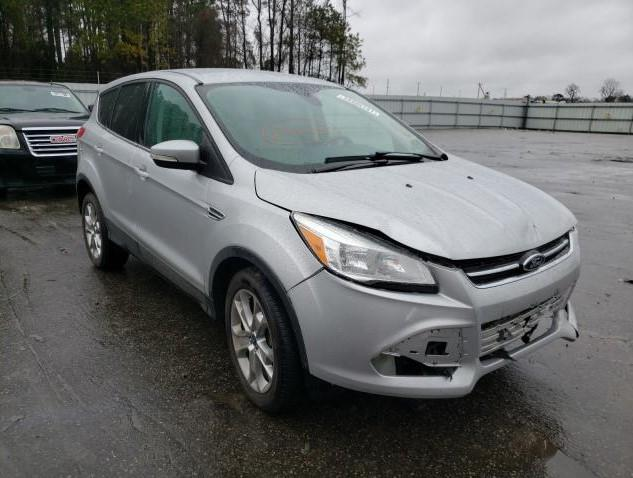Back-door: (92, 77, 152, 241)
Back-wheel: (81, 192, 130, 268)
Back-window: (111, 83, 145, 142), (98, 88, 117, 128)
Fender: (205, 156, 324, 300)
Front-bumper: (281, 227, 581, 399)
Front-door: (133, 78, 228, 294)
Front-wheel: (225, 266, 307, 414)
Front-window: (146, 84, 202, 147)
Grille: (463, 235, 570, 286)
Headlight: (290, 212, 439, 294)
Hood: (255, 154, 578, 260)
Mirror: (150, 140, 207, 171)
Quarter-panel: (75, 117, 108, 216)
Rocker-panel: (105, 217, 217, 322)
Roof: (154, 68, 345, 87)
Tail-light: (76, 124, 85, 139)
Windshield: (196, 82, 447, 174)
